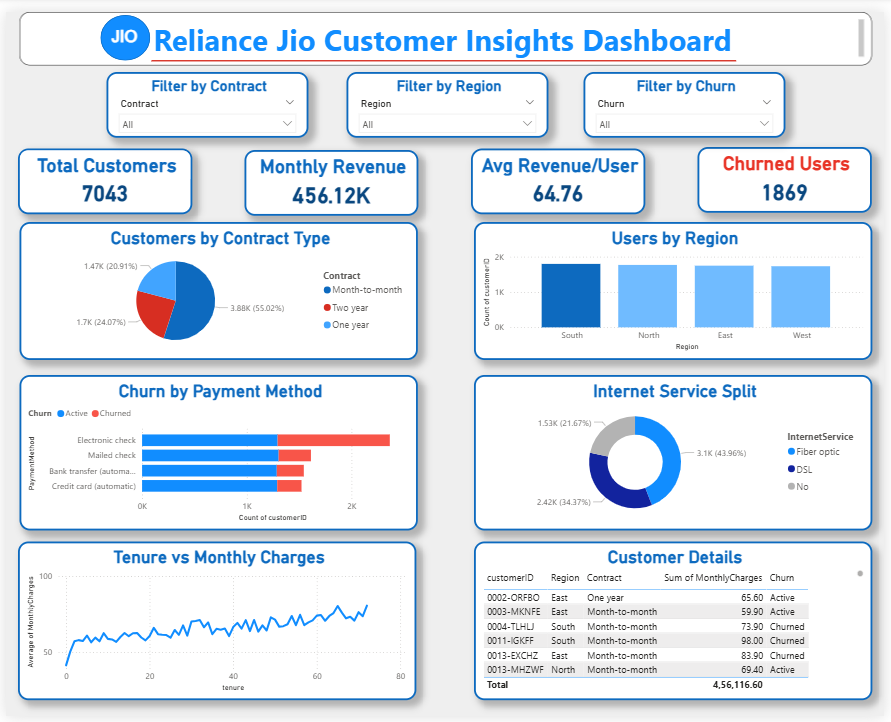

The dashboard page shown, as its layout file describes it:
{"tool":"powerbi","page":{"name":"Jio Dashboard","canvas":[1272,1020],"ordinal":0},"visuals":[{"type":"textbox","box":[20,0,1235,77.5],"z":0},{"type":"card","title":"Total Customers","fields":{"Values":["Count(jio_cleaned_data.customerID)"]},"box":[17.5,197.5,252.5,95],"z":1000},{"type":"card","title":"Monthly Revenue","fields":{"Values":["Sum(jio_cleaned_data.MonthlyCharges)"]},"box":[346,200,252,95],"z":2000},{"type":"card","title":"Avg Revenue/User","fields":{"Values":["Avg(jio_cleaned_data.MonthlyCharges)"]},"box":[674,197.5,252.5,95],"z":3000},{"type":"card","title":"Churned Users","fields":{"Values":["Count(jio_cleaned_data.customerID)"]},"box":[1002.5,195,252.5,95],"z":4000},{"type":"shape","box":[136,5,72,66],"z":5000},{"type":"textbox","box":[108,14,126,66],"z":6000},{"type":"pieChart","title":"Customers by Contract Type","fields":{"Category":["jio_cleaned_data.Contract"],"Y":["Count(jio_cleaned_data.customerID)"]},"box":[20,305,577.5,200],"z":7000},{"type":"clusteredColumnChart","title":"Users by Region","fields":{"Category":["jio_cleaned_data.Region"],"Y":["Count(jio_cleaned_data.customerID)"]},"box":[677.5,305,577.5,200],"z":8000},{"type":"barChart","title":"Churn by Payment Method","fields":{"Category":["jio_cleaned_data.PaymentMethod"],"Y":["Count(jio_cleaned_data.customerID)"],"Series":["jio_cleaned_data.Churn"]},"box":[20,525,577.5,225],"z":9000},{"type":"donutChart","title":"Internet Service Split","fields":{"Category":["jio_cleaned_data.InternetService"],"Y":["Count(jio_cleaned_data.customerID)"]},"box":[677.5,525,577.5,225],"z":10000},{"type":"lineChart","title":"Tenure vs Monthly Charges","fields":{"Category":["jio_cleaned_data.tenure"],"Y":["Avg(jio_cleaned_data.MonthlyCharges)"]},"box":[17.5,767.5,577.5,230],"z":11000},{"type":"tableEx","title":"Customer Details","fields":{"Values":["jio_cleaned_data.customerID","jio_cleaned_data.Region","jio_cleaned_data.Contract","Sum(jio_cleaned_data.MonthlyCharges)","jio_cleaned_data.Churn"]},"box":[677.5,767.5,577.5,230],"z":12000},{"type":"slicer","title":"Filter by Region","fields":{"Values":["jio_cleaned_data.Region"]},"box":[492.5,87.5,292.5,95],"z":13000},{"type":"slicer","title":"Filter by Contract","fields":{"Values":["jio_cleaned_data.Contract"]},"box":[145,87.5,292.5,95],"z":14000},{"type":"slicer","title":"Filter by Churn","fields":{"Values":["jio_cleaned_data.Churn"]},"box":[837.5,87.5,292.5,95],"z":15000},{"type":"shape","box":[210,45,847.5,50],"z":16000}]}

Visuals, with their boxes in screenshot pixels (x1, y1, x2, y2), scaled from the page's 1272x1020 canvas onto the 891x722 screenshot:
textbox: 14:0:879:55
"Total Customers" card: 12:140:189:207
"Monthly Revenue" card: 242:142:419:209
"Avg Revenue/User" card: 472:140:649:207
"Churned Users" card: 702:138:879:205
shape: 95:4:146:50
textbox: 76:10:164:57
"Customers by Contract Type" pieChart: 14:216:419:357
"Users by Region" clusteredColumnChart: 475:216:879:357
"Churn by Payment Method" barChart: 14:372:419:531
"Internet Service Split" donutChart: 475:372:879:531
"Tenure vs Monthly Charges" lineChart: 12:543:417:706
"Customer Details" tableEx: 475:543:879:706
"Filter by Region" slicer: 345:62:550:129
"Filter by Contract" slicer: 102:62:306:129
"Filter by Churn" slicer: 587:62:792:129
shape: 147:32:741:67
